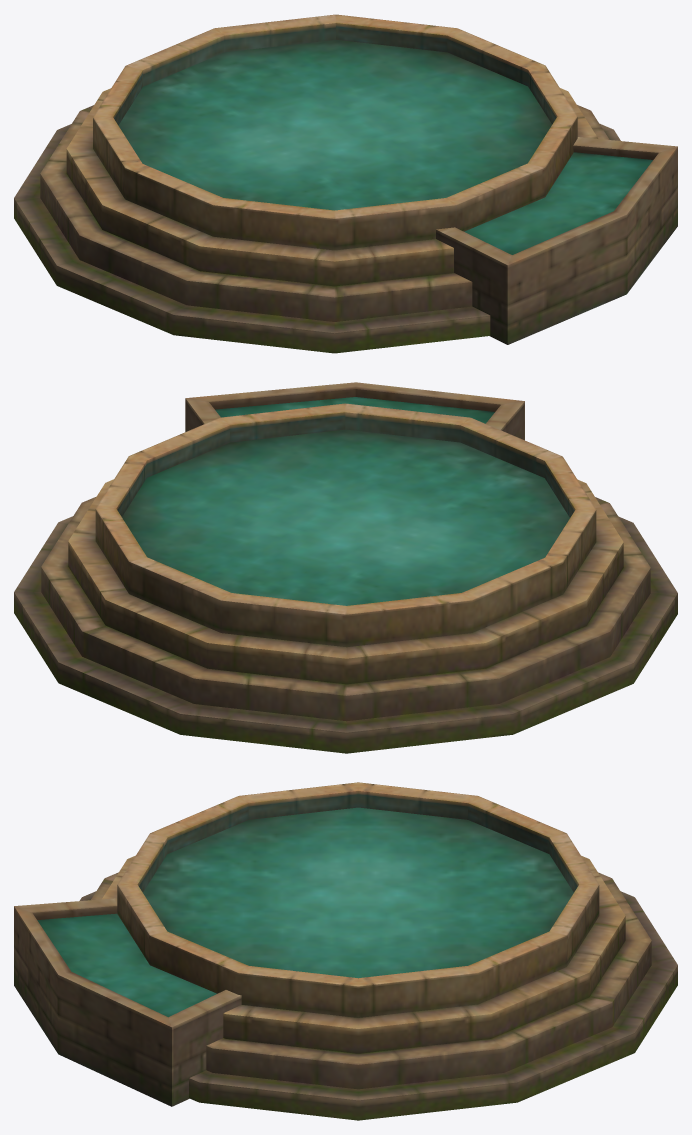
The model's file is zc_lekesigang_shuichi01.FBX.
The picture shows the model from 3 angles, top to bottom: view 1: azimuth 30°, elevation 25°; view 2: azimuth 150°, elevation 25°; view 3: azimuth 270°, elevation 25°; orthographic projection. The views are drawn at different scales.
Parts seen in each view (by area): view 1: zc_lekesigang_shuichi01; view 2: zc_lekesigang_shuichi01; view 3: zc_lekesigang_shuichi01.
Boxes of the visible parts, bbox=[...] form: zc_lekesigang_shuichi01: bbox=[14, 14, 677, 353]; zc_lekesigang_shuichi01: bbox=[14, 382, 677, 753]; zc_lekesigang_shuichi01: bbox=[14, 782, 677, 1120].
Bounding box in the file's own units: 1093 × 191 × 1133.
